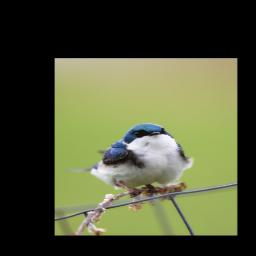Swallow: (61, 123, 195, 198)
